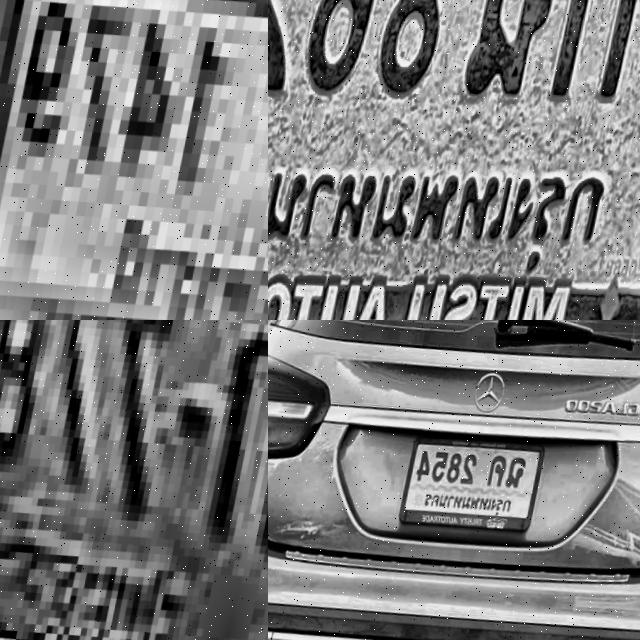license-plate: (268, 0, 640, 320), (0, 0, 268, 320), (0, 320, 268, 640), (397, 428, 554, 549)
